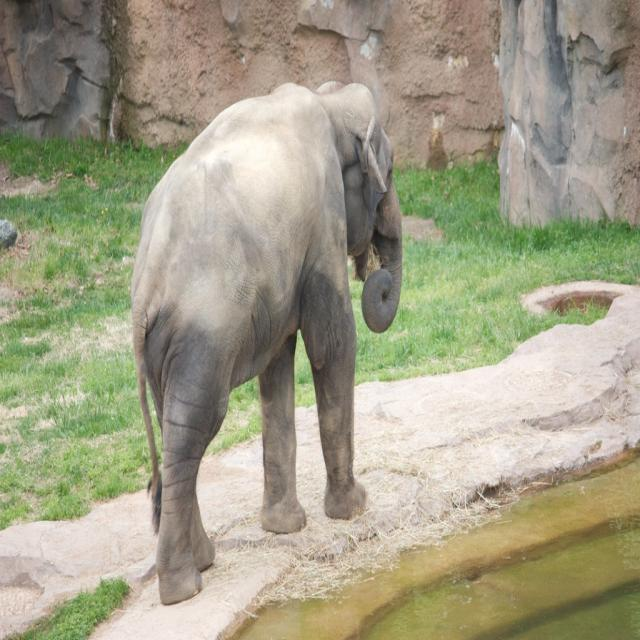Elephant: (155, 80, 402, 604)
